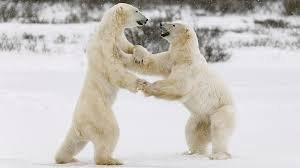bear: (113, 21, 235, 160), (56, 3, 148, 165)
